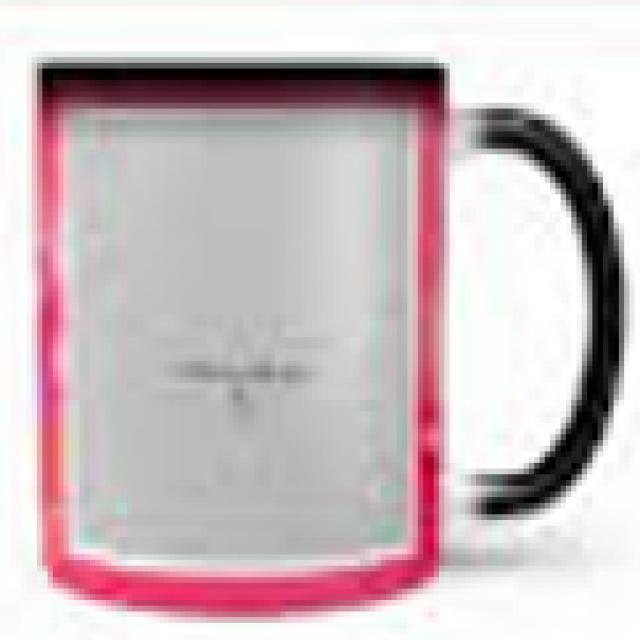taza: (14, 44, 624, 620)
